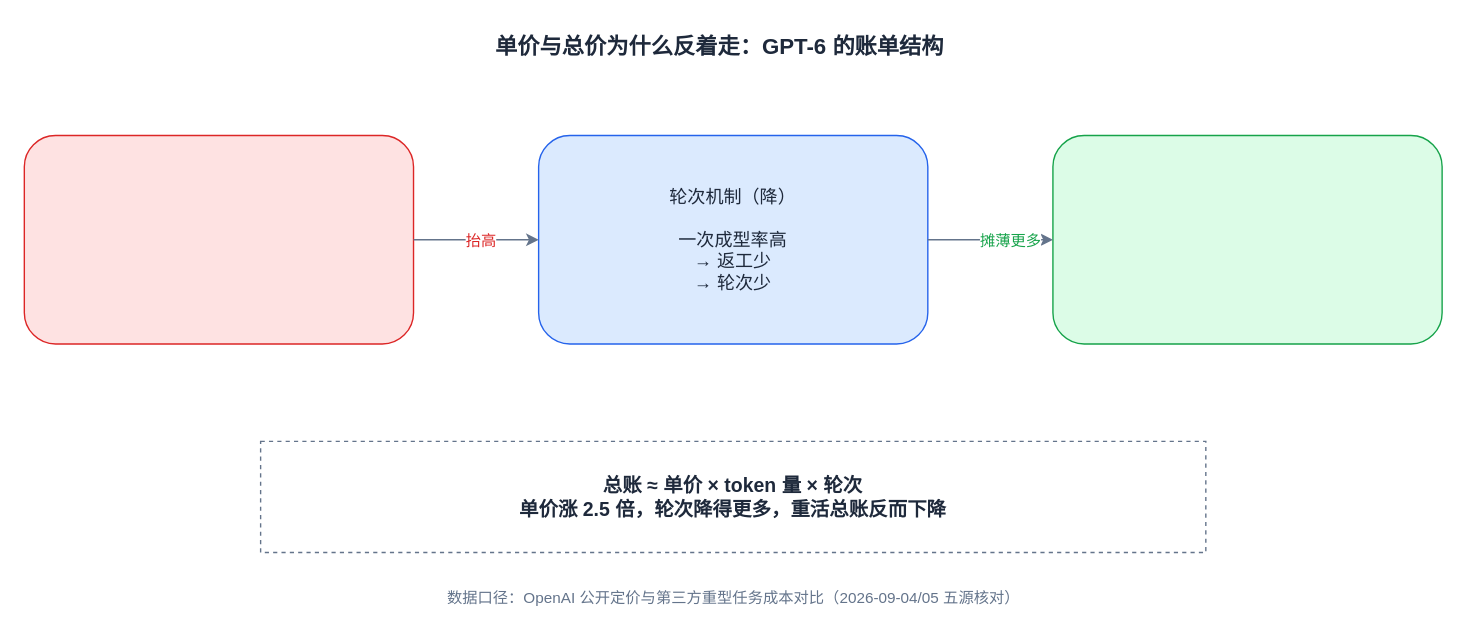
Image size: 1466x637. Some labels were removed from this diagram. The shapes that lost their labels are listed below. From the top down, each one's box as (x1, y1, x2, y2) in pixels, then its label:
(23, 134, 414, 344): 单价面（涨） 输入 $10 / 输出 $50 每百万 token 上代的 2.5 倍 输出价 = 输入价 × 5
(1052, 134, 1442, 344): 总账面（重活口径） 比上一代低 43% 比另一家旗舰低 86% 省的不是单价，是轮次
